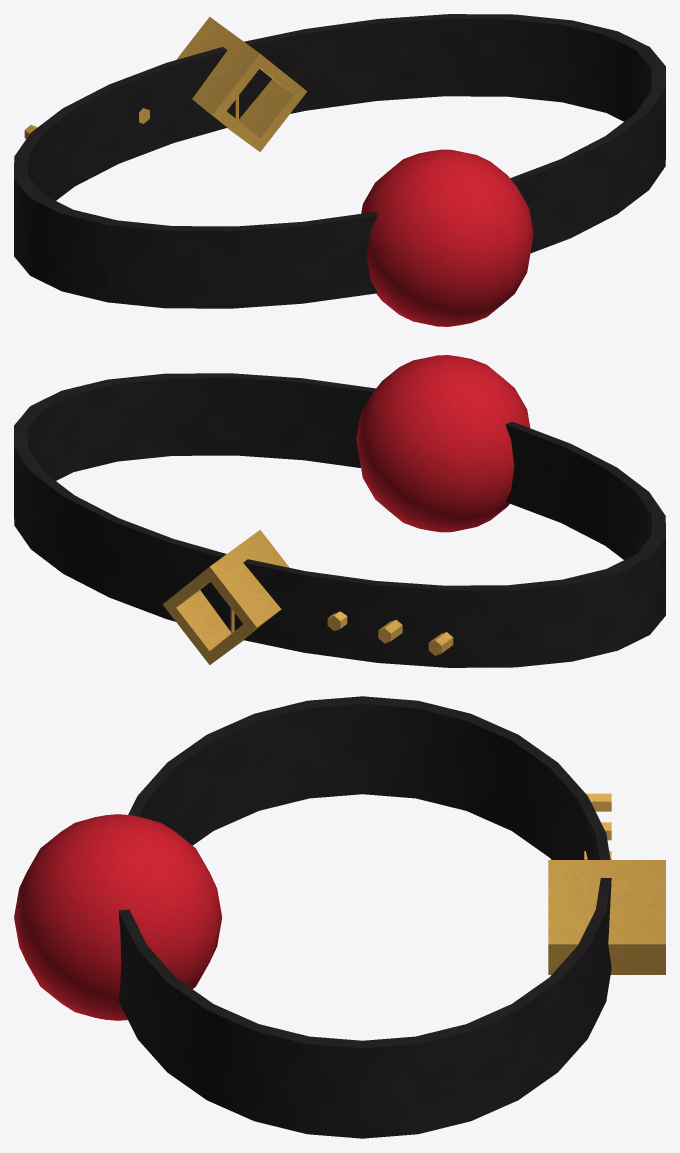
The model's file is Play_Gag.fbx.
3 views of the same model, one above another, from view 1: azimuth 30°, elevation 25°; view 2: azimuth 150°, elevation 25°; view 3: azimuth 270°, elevation 25° (orthographic). The views are drawn at different scales.
Parts seen in each view (by area): view 1: Play_Gag; view 2: Play_Gag; view 3: Play_Gag.
Part boxes in pixels (x1=…): Play_Gag: x1=14, y1=14, x2=665, y2=326; Play_Gag: x1=14, y1=355, x2=665, y2=667; Play_Gag: x1=14, y1=696, x2=665, y2=1138.
Size of the model in its own units: 0.184 by 0.046 by 0.144.
3 materials, 3 textured.
